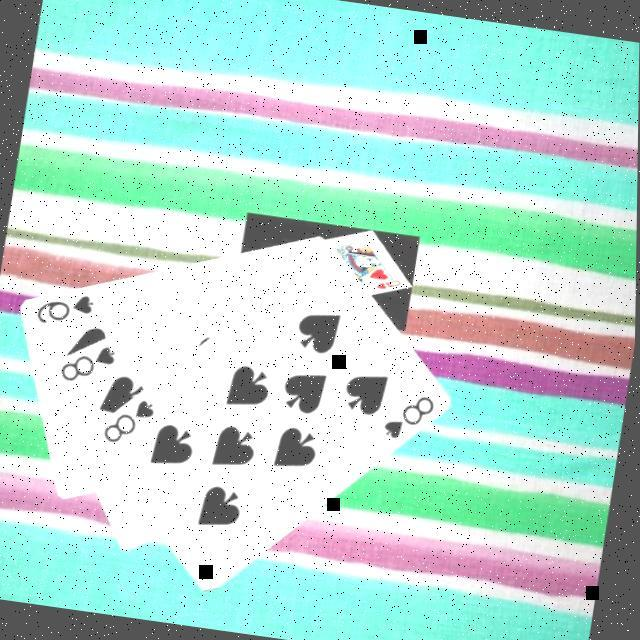6S: (34, 282, 100, 332)
8S: (100, 389, 162, 450), (56, 334, 123, 390), (380, 386, 440, 446)
